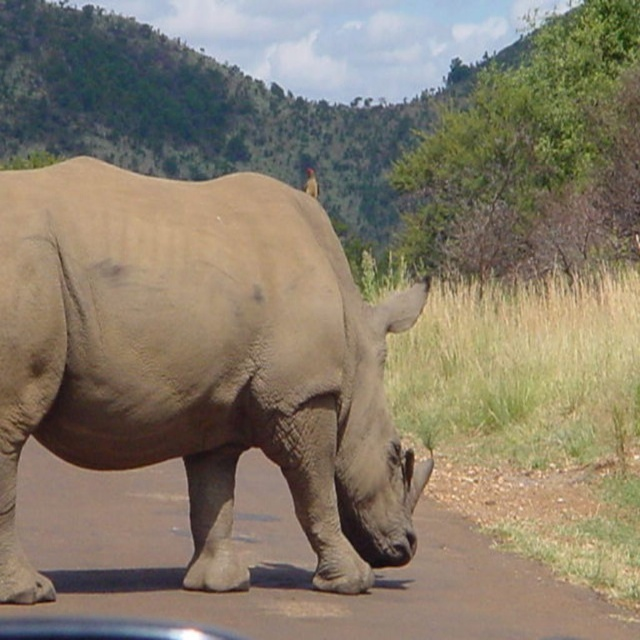Rhinoceros: (0, 151, 435, 608)
